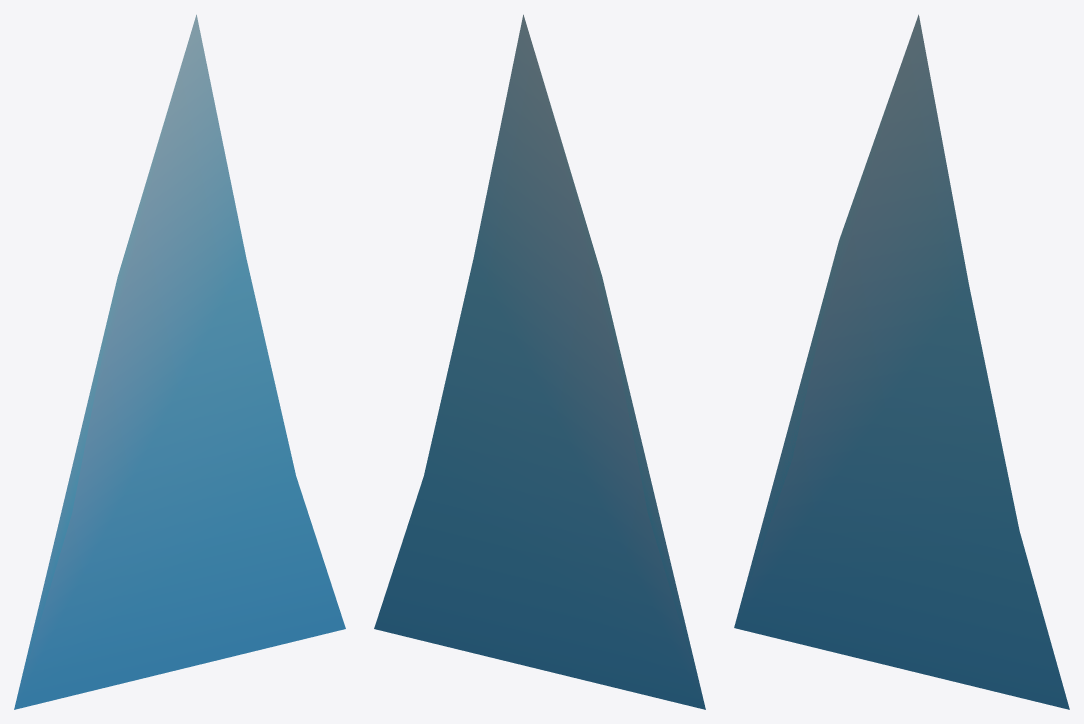
The model's file is 2083_InfusedStones_Hydro_WaterSpout_67.fbx.
3 renders of one model, left to right at view 1: azimuth 30°, elevation 25°; view 2: azimuth 150°, elevation 25°; view 3: azimuth 330°, elevation 25°, orthographic.
Parts seen in each view (by area): view 1: PART_WaterSpout_67; view 2: PART_WaterSpout_67; view 3: PART_WaterSpout_67.
Boxes of the visible parts, <box> form: PART_WaterSpout_67: <box>14,14,345,709</box>; PART_WaterSpout_67: <box>374,14,705,709</box>; PART_WaterSpout_67: <box>734,14,1069,709</box>.
Bounding box in the file's own units: 80 × 150 × 2.44e-05.
